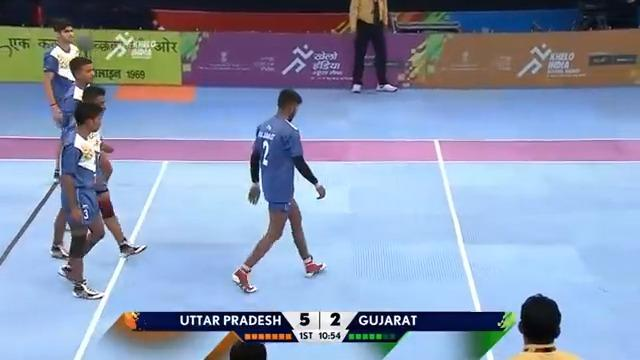Player: (231, 88, 327, 293), (51, 56, 147, 260), (56, 102, 109, 300), (41, 18, 83, 182), (506, 292, 582, 359)
referee: (347, 0, 398, 93), (229, 340, 267, 359)
